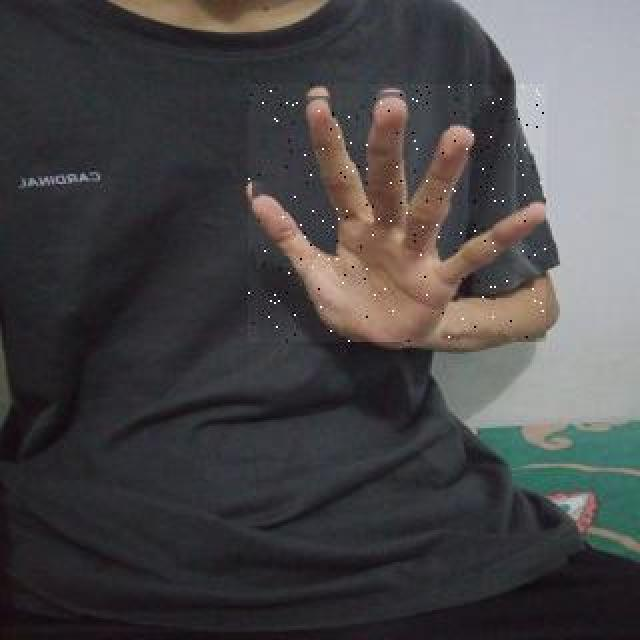hand: (248, 84, 546, 342)
